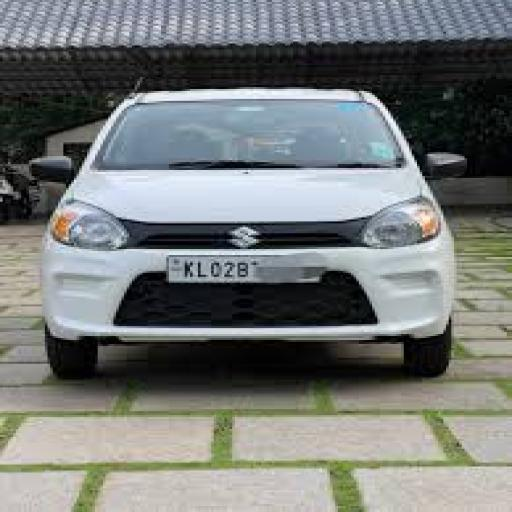License: (162, 250, 329, 280)
